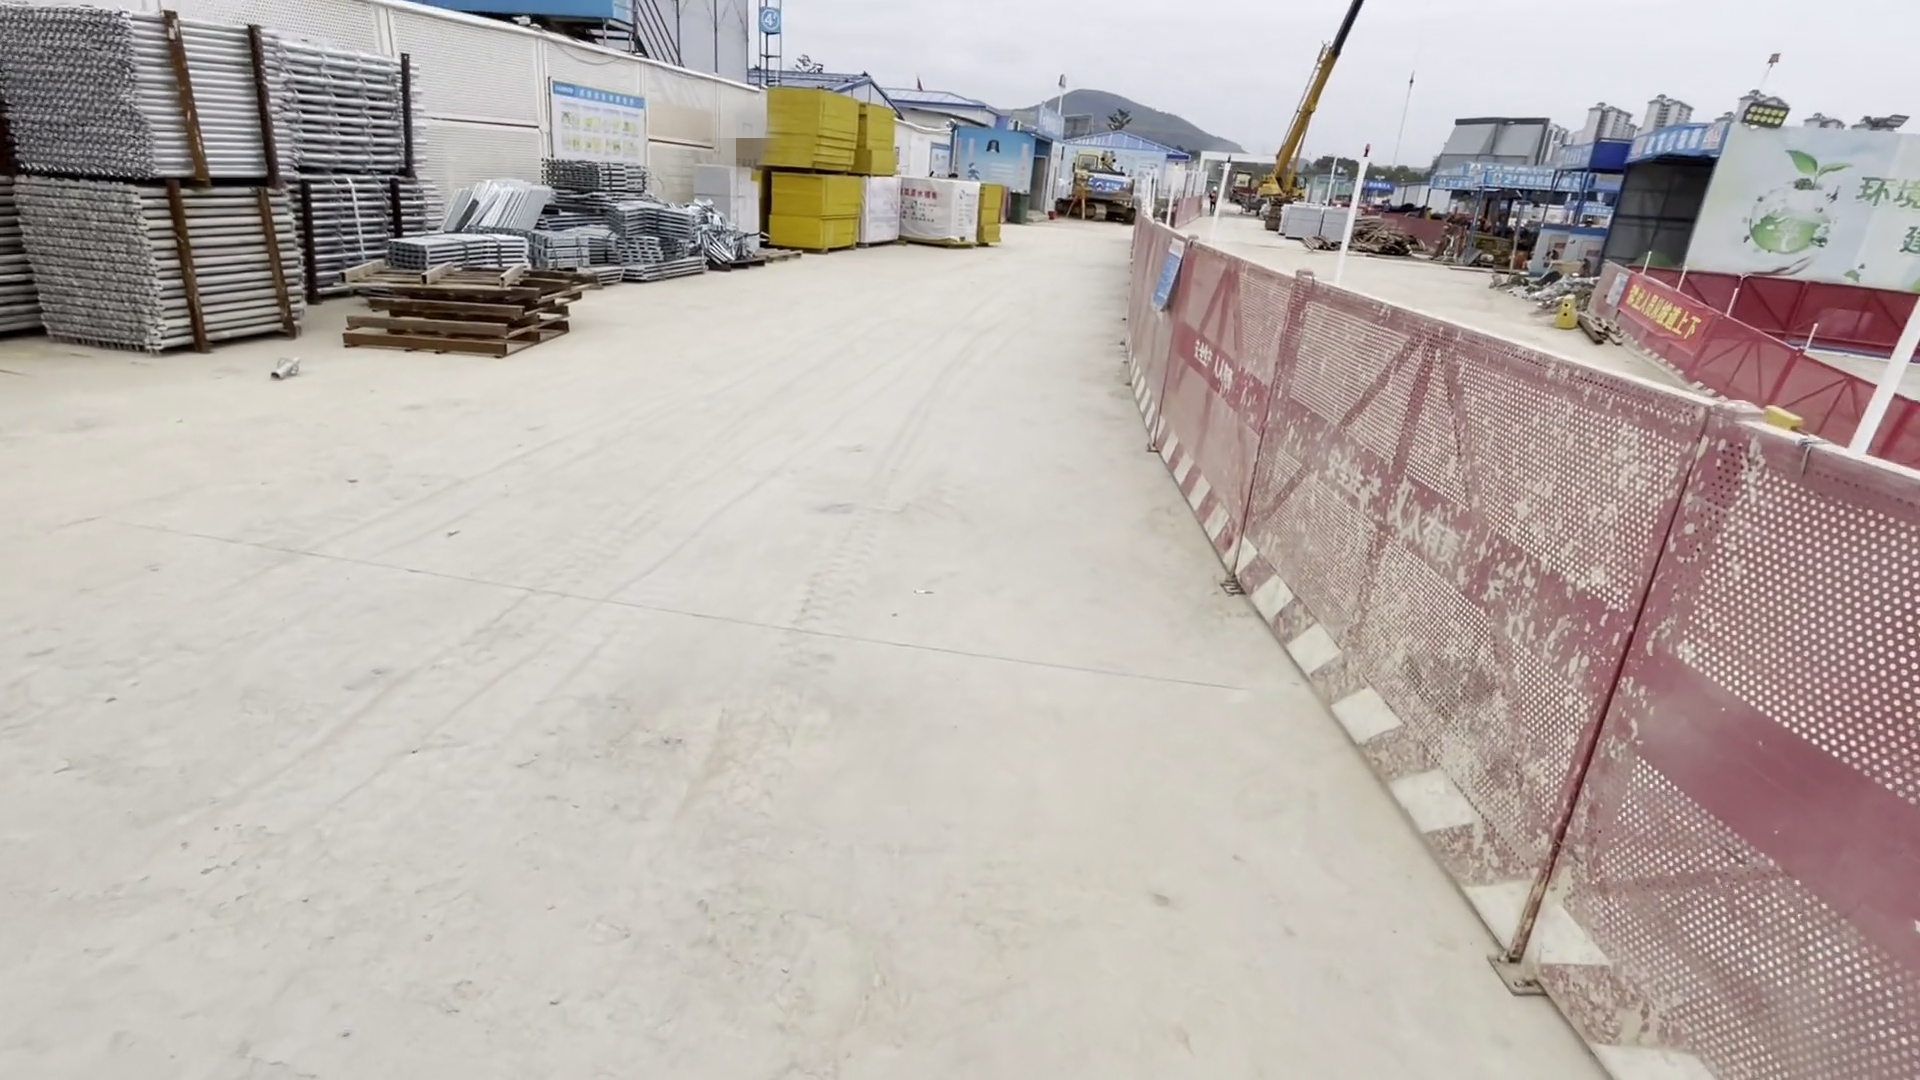board: (760, 80, 862, 262)
fence: (1127, 249, 1873, 1068)
scaffold: (4, 15, 423, 392)
slogan: (1433, 160, 1602, 199), (1621, 133, 1734, 156)
